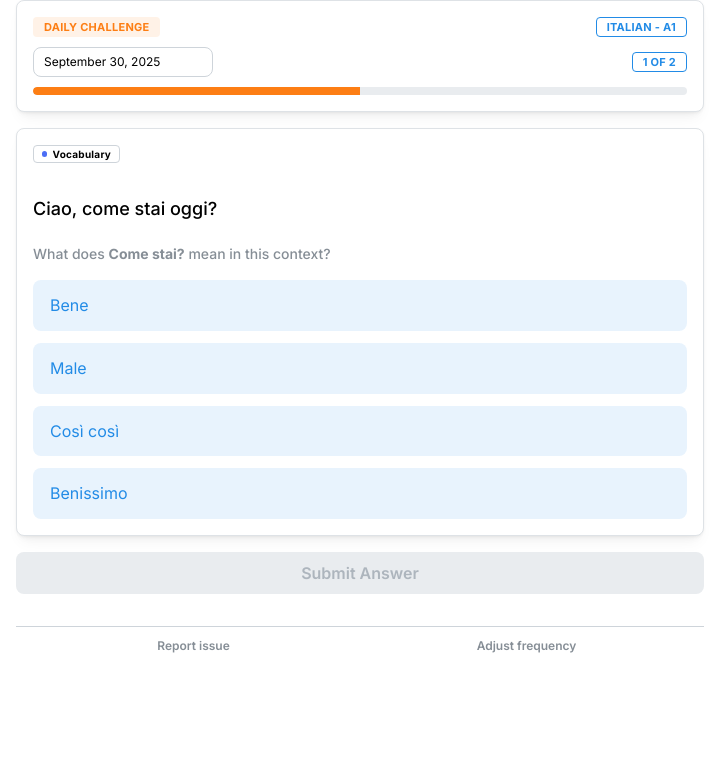
Test case: MobileDailyPage › shows next button after submitting answer
Expected: the text "Daily Challenge" is shown, top-left (44, 18), bottom-right (150, 36)
Click the button "Bene".
click(69, 305)  # box top-left (33, 280), bottom-right (687, 331)
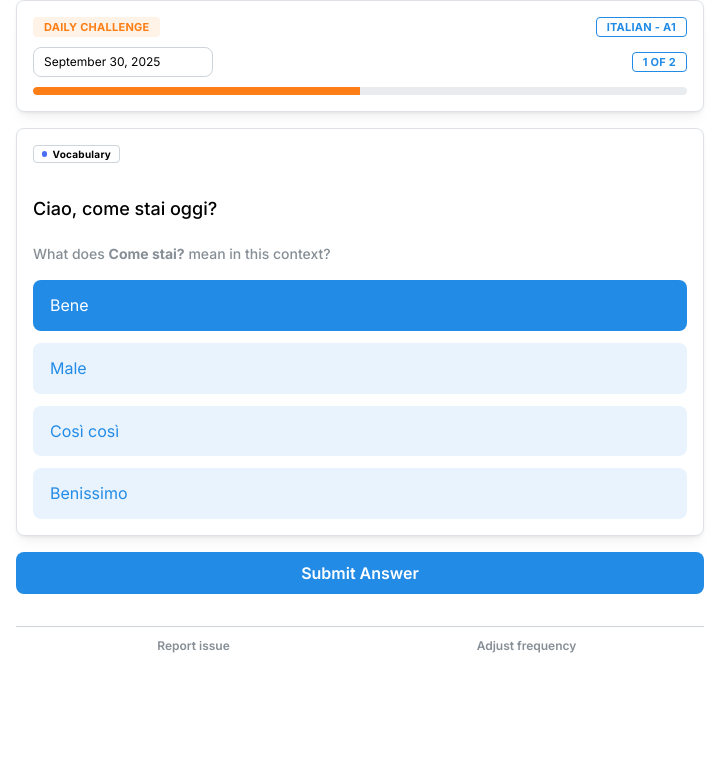
Now submit the answer
Click the button "Submit Answer".
click(360, 573)  # box top-left (16, 552), bottom-right (704, 594)
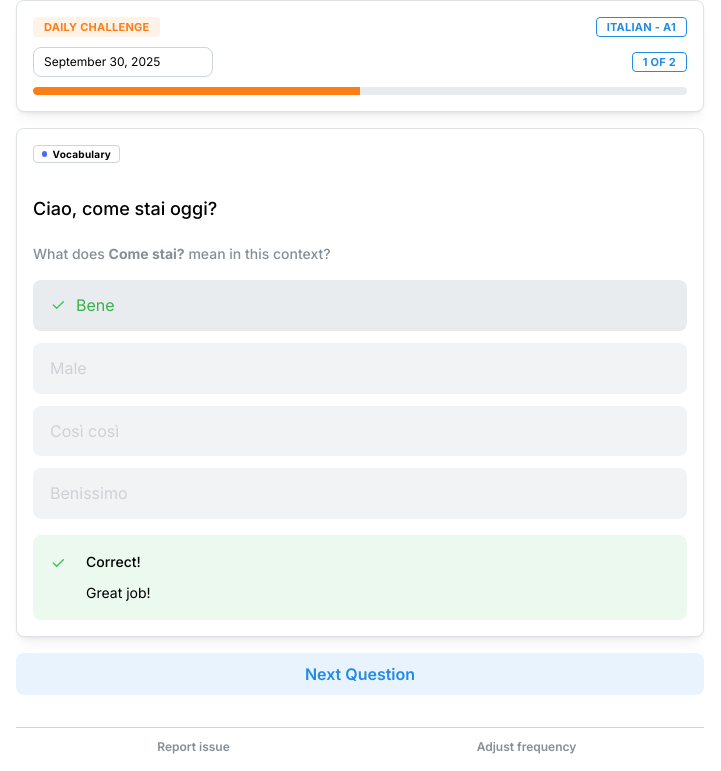
Expected: the button "Next Question" is shown, top-left (16, 653), bottom-right (704, 695)
